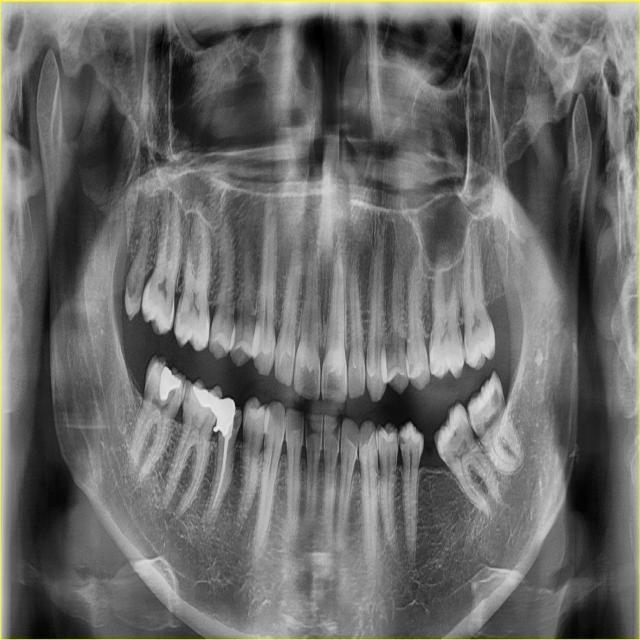74: (209, 417, 235, 510)
NucleOSS Implant: (145, 366, 183, 404), (189, 381, 228, 418), (212, 395, 238, 439)
Sterngold Implant: (490, 386, 506, 410), (231, 408, 244, 433), (397, 433, 407, 447), (408, 362, 415, 375), (452, 428, 458, 439)
